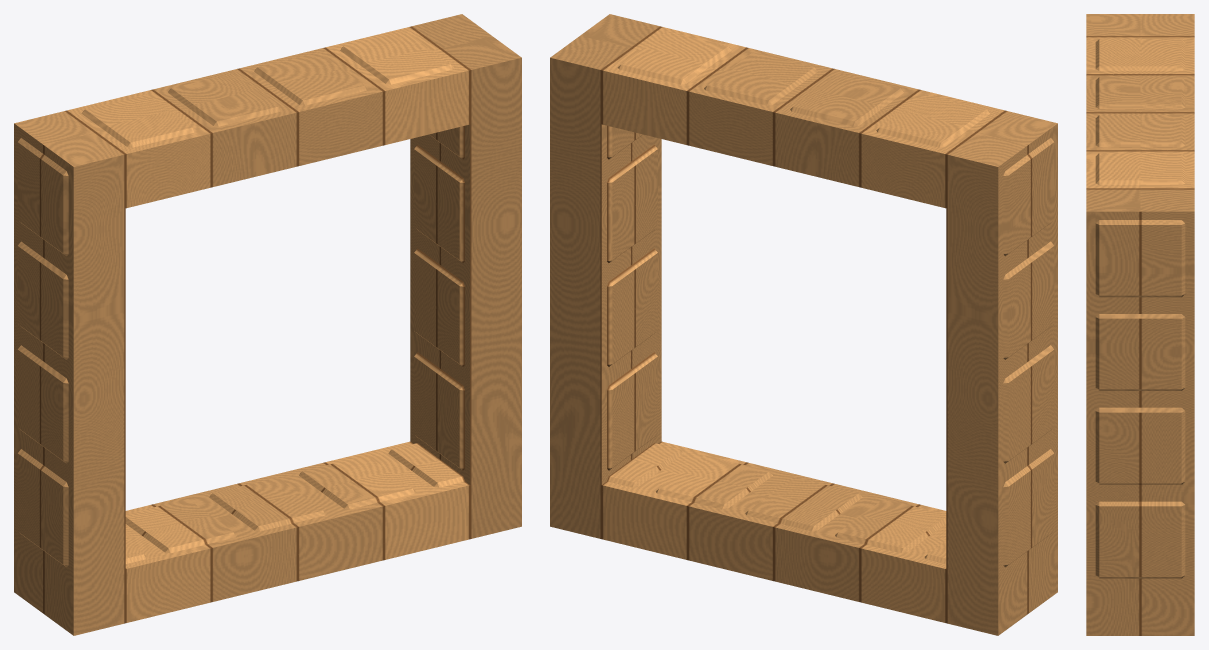
The model's file is Kit_Wood_WindowFrame.fbx.
3 renders of one model, left to right at view 1: azimuth 30°, elevation 25°; view 2: azimuth 150°, elevation 25°; view 3: azimuth 270°, elevation 25°, orthographic. The views are drawn at different scales.
Visible parts, largest first — view 1: Kit_Wood_WindowFrame_LOD0; view 2: Kit_Wood_WindowFrame_LOD0; view 3: Kit_Wood_WindowFrame_LOD0.
Boxes of the visible parts, x1,y1,x2,y2 form: Kit_Wood_WindowFrame_LOD0: (14, 14, 521, 635); Kit_Wood_WindowFrame_LOD0: (550, 14, 1057, 635); Kit_Wood_WindowFrame_LOD0: (1086, 14, 1194, 635).
Size of what is drawn, in the model's own units: 1.32 by 1.32 by 0.3.
